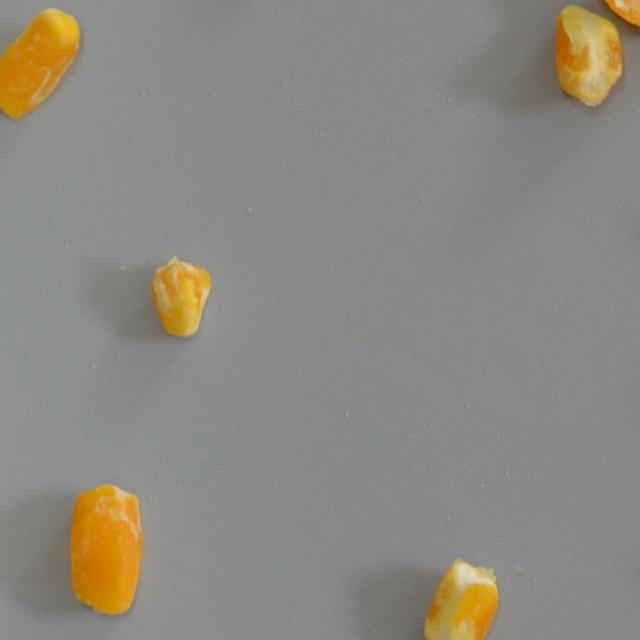pelicula: (54, 469, 159, 618), (126, 231, 232, 361), (0, 2, 87, 132), (408, 543, 514, 640), (552, 0, 632, 112), (588, 0, 640, 39)
